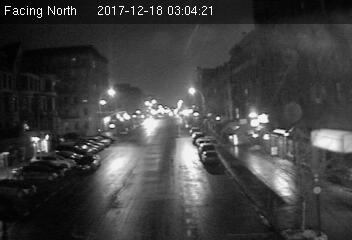car: (76, 154, 102, 173), (202, 150, 222, 163)
